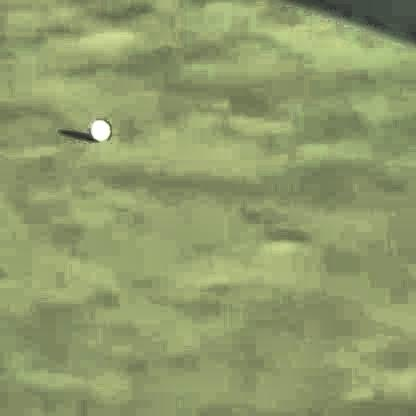golfball: (89, 114, 108, 138)
